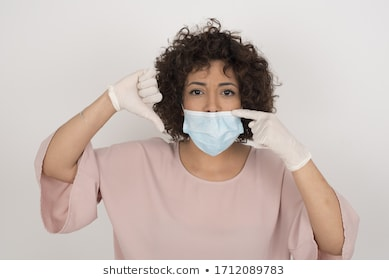mask_weared_incorrect: (184, 81, 241, 153)
